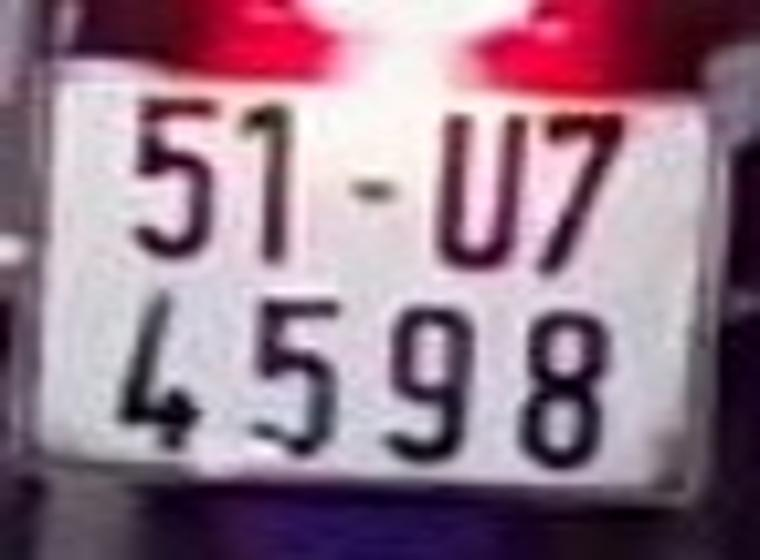-: (337, 167, 416, 218)
1: (232, 101, 303, 263)
4: (122, 285, 212, 454)
5: (248, 287, 346, 459), (131, 92, 218, 258)
7: (538, 108, 636, 280)
8: (517, 298, 612, 477)
9: (379, 296, 478, 472)
U: (430, 104, 529, 276)
